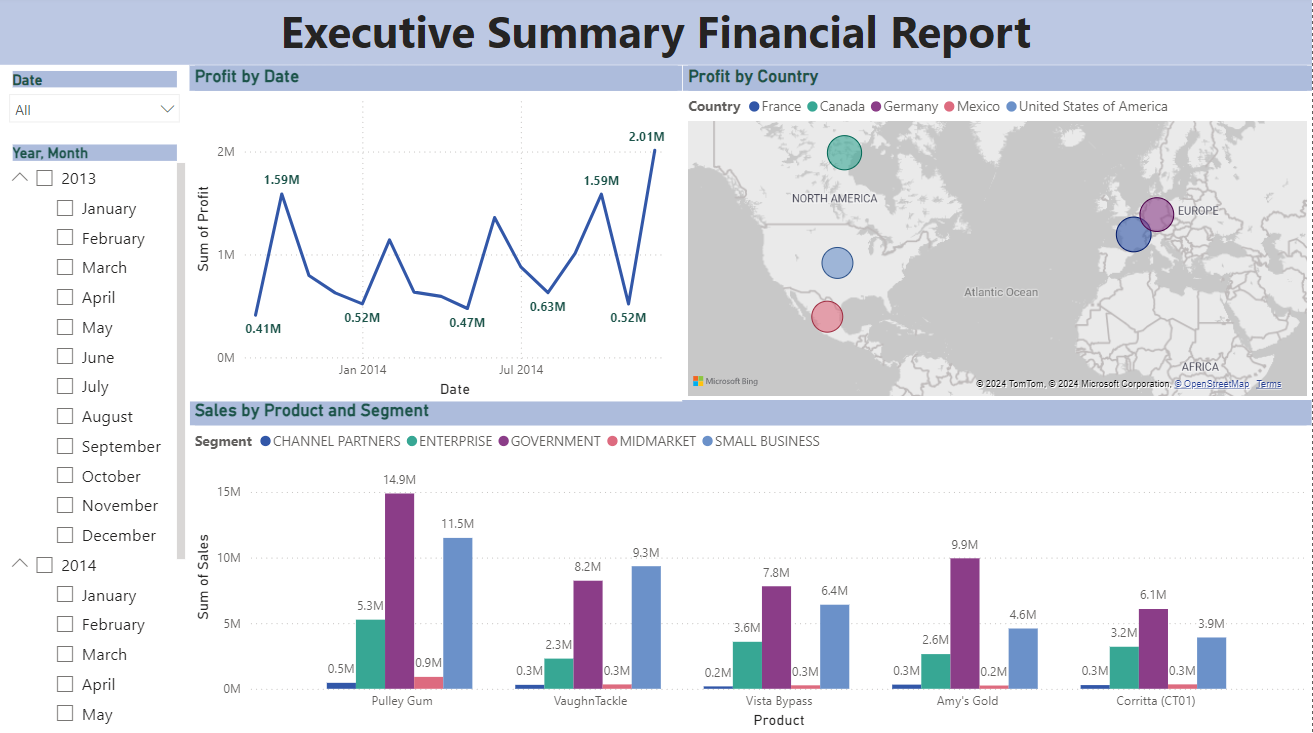

Layout of this report page (visuals, bound fields, positions):
{"tool":"powerbi","page":{"name":"Page 1","canvas":[1280,720],"ordinal":0},"visuals":[{"type":"textbox","box":[0,0,1279.4,68],"z":0},{"type":"map","title":"Profit by Country","fields":{"Size":["Sum(Sheet1.Profit)"],"Category":["Sheet1.Country"],"Series":["Sheet1.Country"]},"box":[666.3,68.1,613.3,327.1],"z":1000},{"type":"clusteredColumnChart","title":"Sales by Product and Segment","fields":{"Y":["Sum(Sheet1. Sales)"],"Category":["Sheet1.Product"],"Series":["Sheet1.Segment"]},"box":[186.2,395.2,1093.3,324],"z":2000},{"type":"slicer","fields":{"Values":["Sheet1.Date"]},"box":[0,68.1,186.2,72.7],"z":3000},{"type":"slicer","fields":{"Values":["Calendar.Date.Variation.Date Hierarchy.Year","Calendar.Date.Variation.Date Hierarchy.Month"]},"box":[0,140.8,186.2,578.4],"z":4000},{"type":"lineChart","title":"Profit by Date","fields":{"Y":["Sum(Sheet1.Profit)"],"Category":["Calendar.Date"]},"box":[186.2,68.1,480,327.1],"z":4001}]}

Visuals, with their boxes in screenshot pixels (x1, y1, x2, y2), scaled from the page's 1280x720 canvas onto the 1313x733 screenshot:
textbox: [left=0, top=0, right=1312, bottom=69]
"Profit by Country" map: [left=683, top=69, right=1312, bottom=402]
"Sales by Product and Segment" clusteredColumnChart: [left=191, top=402, right=1312, bottom=732]
slicer - Sheet1.Date: [left=0, top=69, right=191, bottom=143]
slicer - Calendar.Date.Variation.Date Hierarchy.Year x Calendar.Date.Variation.Date Hierarchy.Month: [left=0, top=143, right=191, bottom=732]
"Profit by Date" lineChart: [left=191, top=69, right=683, bottom=402]
